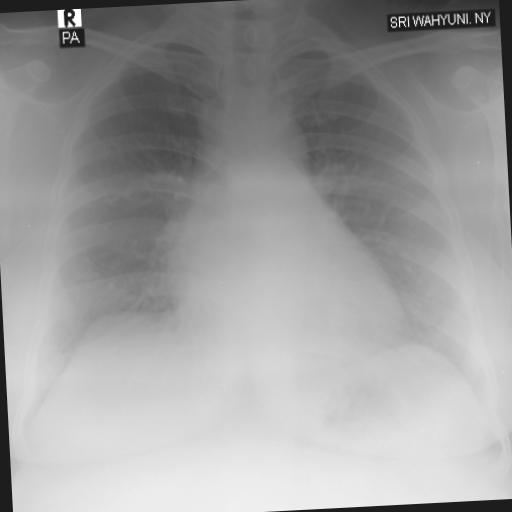kardiomegali: (0, 13, 511, 453)
